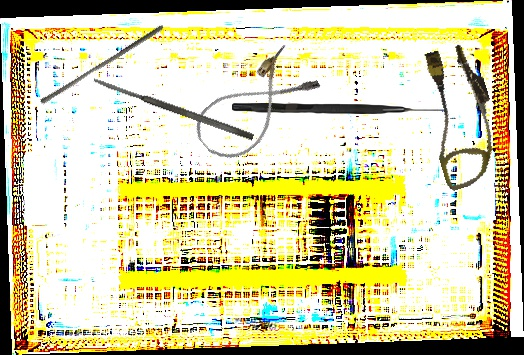Cannula: (186, 41, 324, 172), (408, 39, 513, 193)
Hook Surgical: (232, 103, 448, 114)
Pusher: (39, 19, 165, 110)
Spatula Surgical: (92, 75, 255, 142)
